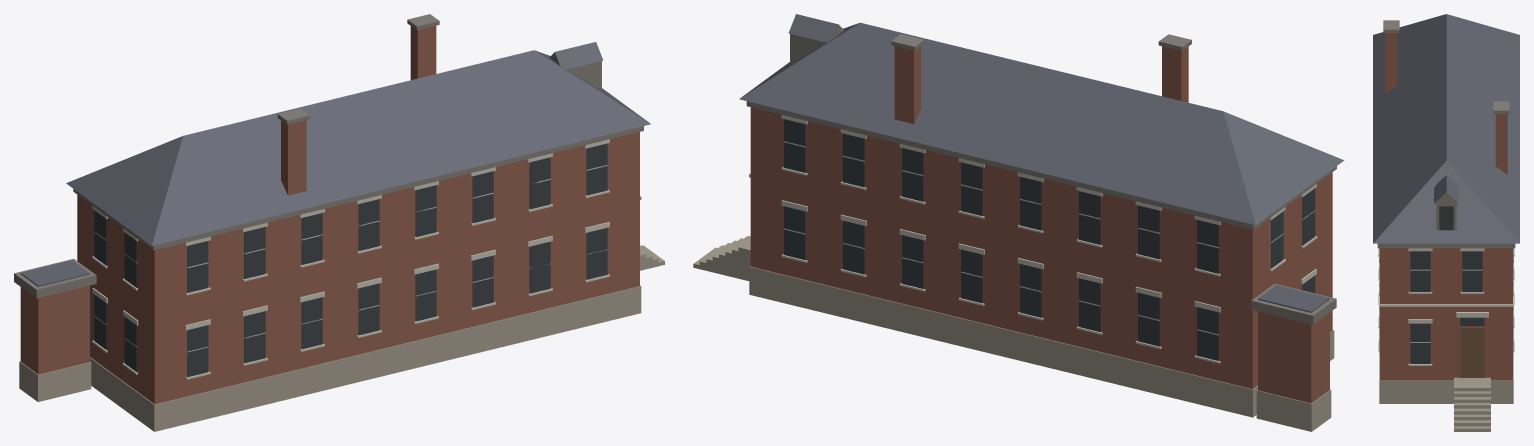
File: house_1616_prairie__draft_1904.glb
3 views of the same model, side by side, from view 1: azimuth 30°, elevation 25°; view 2: azimuth 150°, elevation 25°; view 3: azimuth 270°, elevation 25° (orthographic). The views are drawn at different scales.
Parts seen in each view (by area): view 1: house_1616_prairie__draft_1904; view 2: house_1616_prairie__draft_1904; view 3: house_1616_prairie__draft_1904.
Part boxes in pixels (bbox=[...]): house_1616_prairie__draft_1904: bbox=[14, 14, 664, 431]; house_1616_prairie__draft_1904: bbox=[693, 14, 1343, 431]; house_1616_prairie__draft_1904: bbox=[1373, 14, 1519, 431].
Bounding box in the file's own units: 29.75 × 12.79 × 7.2.
